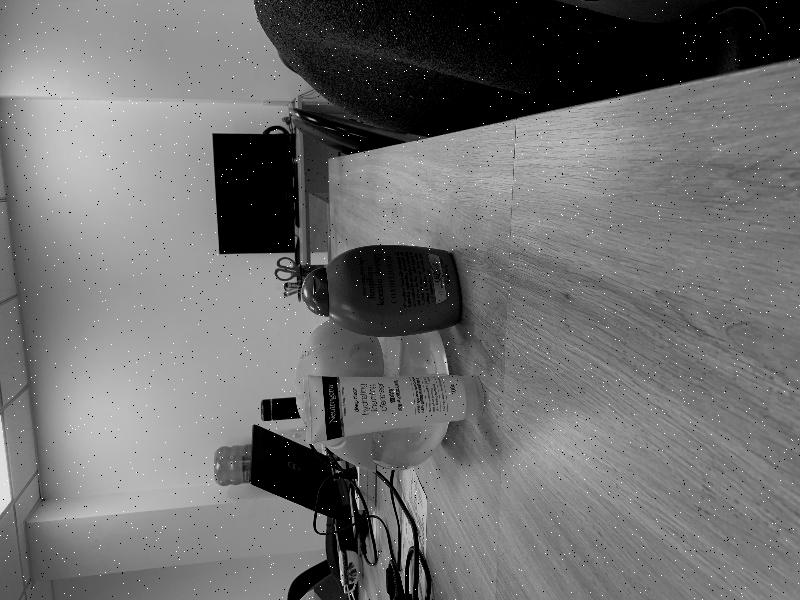BrazilianKerationTherapy_Conditioner: (302, 245, 462, 337)
HydratingFoamingCleanser: (303, 375, 485, 444)
